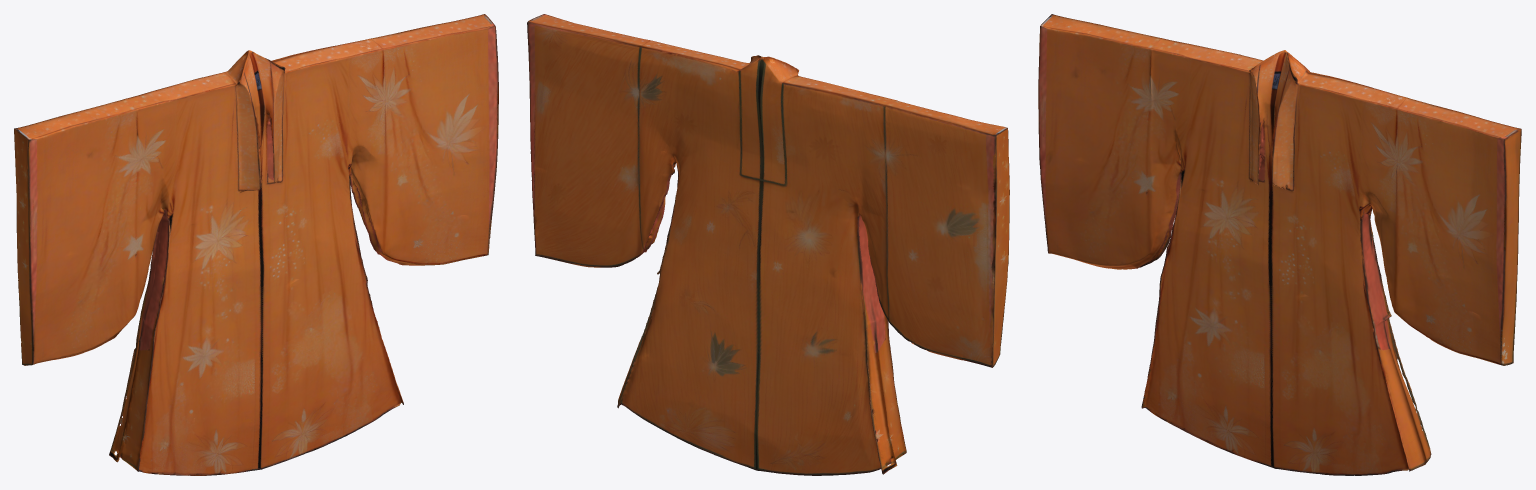
3 renders of one model, left to right at view 1: azimuth 30°, elevation 25°; view 2: azimuth 150°, elevation 25°; view 3: azimuth 330°, elevation 25°, orthographic.
Bounding box in the file's own units: 2 × 1.67 × 0.217.
1 material, 1 textured.
